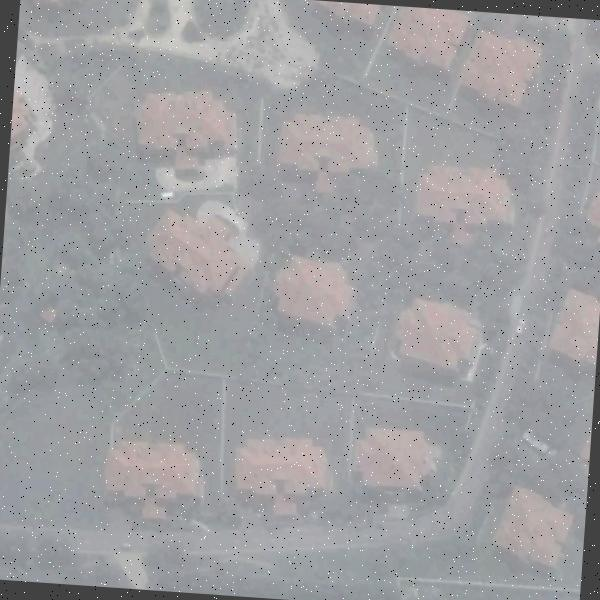Buildings: (104, 437, 208, 530), (134, 80, 231, 179), (488, 476, 570, 572), (272, 108, 378, 181), (142, 216, 240, 286), (360, 416, 440, 500), (240, 446, 330, 514), (418, 170, 507, 238), (464, 32, 544, 98), (382, 6, 463, 70), (394, 310, 478, 364), (279, 262, 350, 320), (545, 298, 600, 366), (314, 0, 380, 32), (10, 74, 29, 144), (586, 190, 600, 242), (20, 0, 80, 6)
